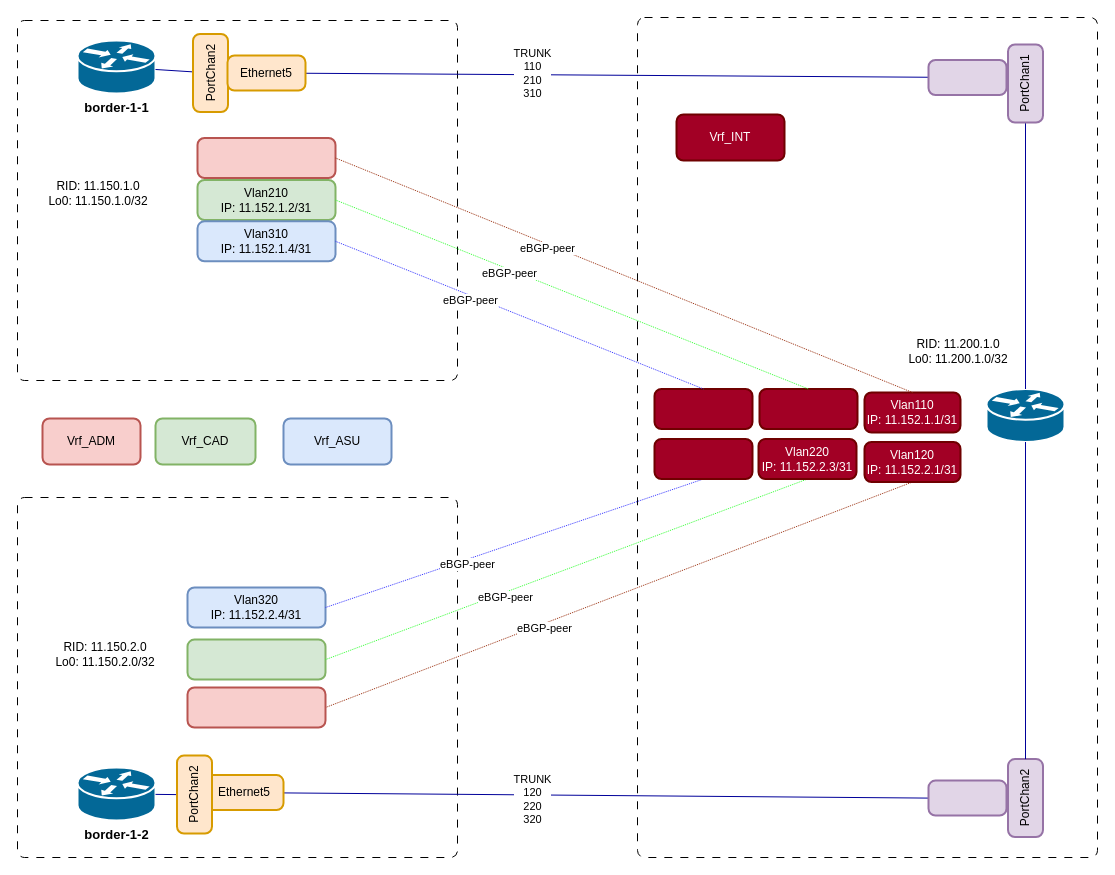
Some shapes in this 1115 by 875 pixel diagram are drawn without their labels. Here are the shapes that lost their labels. From the top down, the box of each, then its label:
(927, 58, 1007, 96): Ethernet1
(196, 136, 336, 178): Vlan110 IP: 11.152.1.0/31
(653, 388, 753, 430): Vlan310 IP: 11.152.1.5/31
(758, 388, 858, 430): Vlan210 IP: 11.152.1.3/31
(985, 388, 1065, 442): Int-Router-1
(653, 438, 753, 480): Vlan320 IP: 11.152.2.5/31
(186, 638, 326, 680): Vlan220 IP: 11.152.2.2/31
(186, 686, 326, 728): Vlan120 IP: 11.152.2.0/31
(927, 779, 1007, 816): Ethernet2
